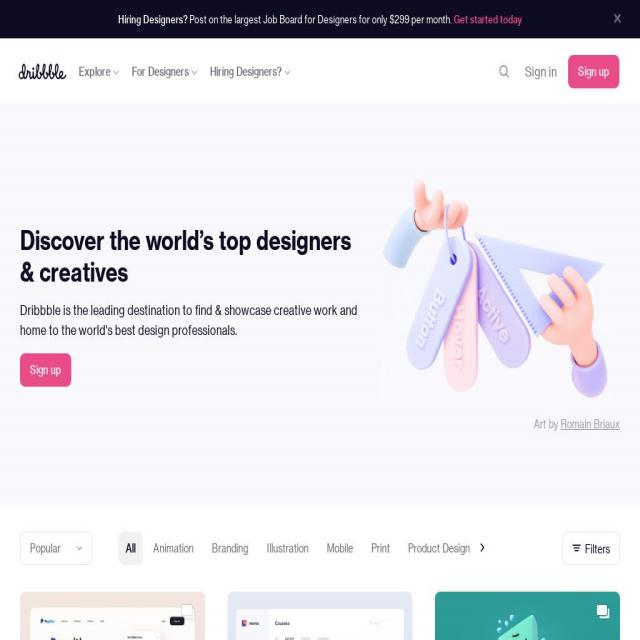filter: (563, 533, 622, 567)
login-option: (524, 60, 560, 90)
navigation-links: (110, 526, 494, 570), (70, 52, 301, 92)
options: (19, 528, 96, 568)
search: (493, 57, 512, 85)
sign-up-option: (16, 347, 74, 394), (565, 50, 624, 90)
